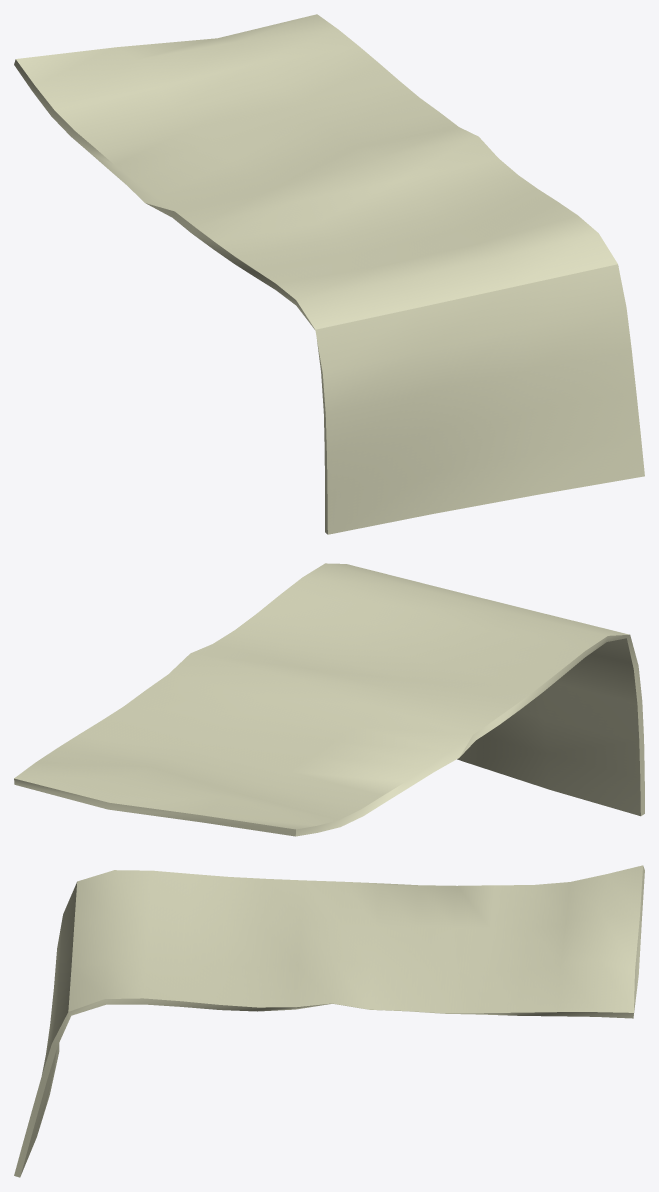
The model's file is Reciept.fbx.
3 renders of one model, top to bottom at view 1: azimuth 30°, elevation 25°; view 2: azimuth 150°, elevation 25°; view 3: azimuth 270°, elevation 25°, orthographic. The views are drawn at different scales.
Parts seen in each view (by area): view 1: Reciept; view 2: Reciept; view 3: Reciept.
Part boxes in pixels (x1,y1,x2,y2): Reciept: (14,14,644,534); Reciept: (14,563,644,836); Reciept: (14,865,644,1177).
Size of the model in its own units: 50.53 by 33.91 by 98.18.
Materials: 1 (1 with a texture image).
